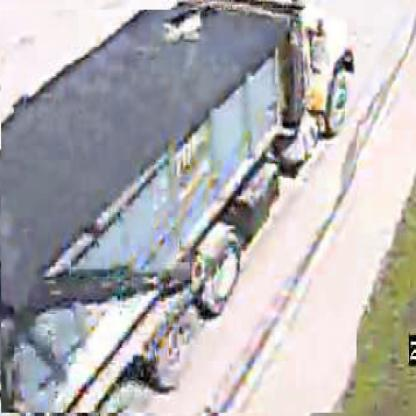truck: (2, 11, 359, 415)
